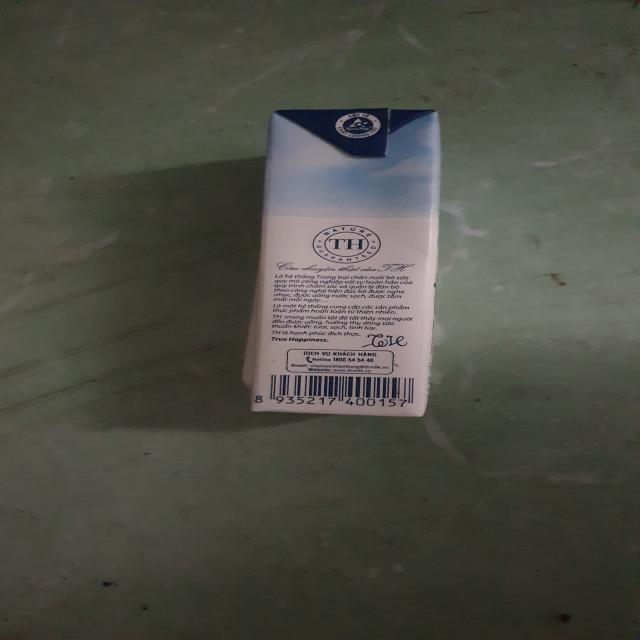TH: (255, 109, 444, 418)
